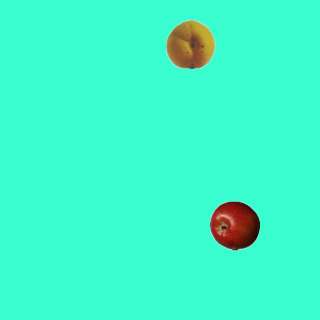Apple Braeburn: (209, 200, 259, 250)
Peach 2: (165, 18, 215, 68)
